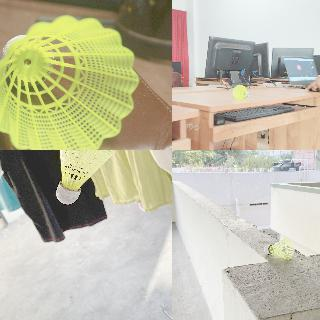shuttlecock: (0, 14, 138, 149), (56, 150, 114, 204), (264, 237, 292, 259), (232, 84, 248, 100)
